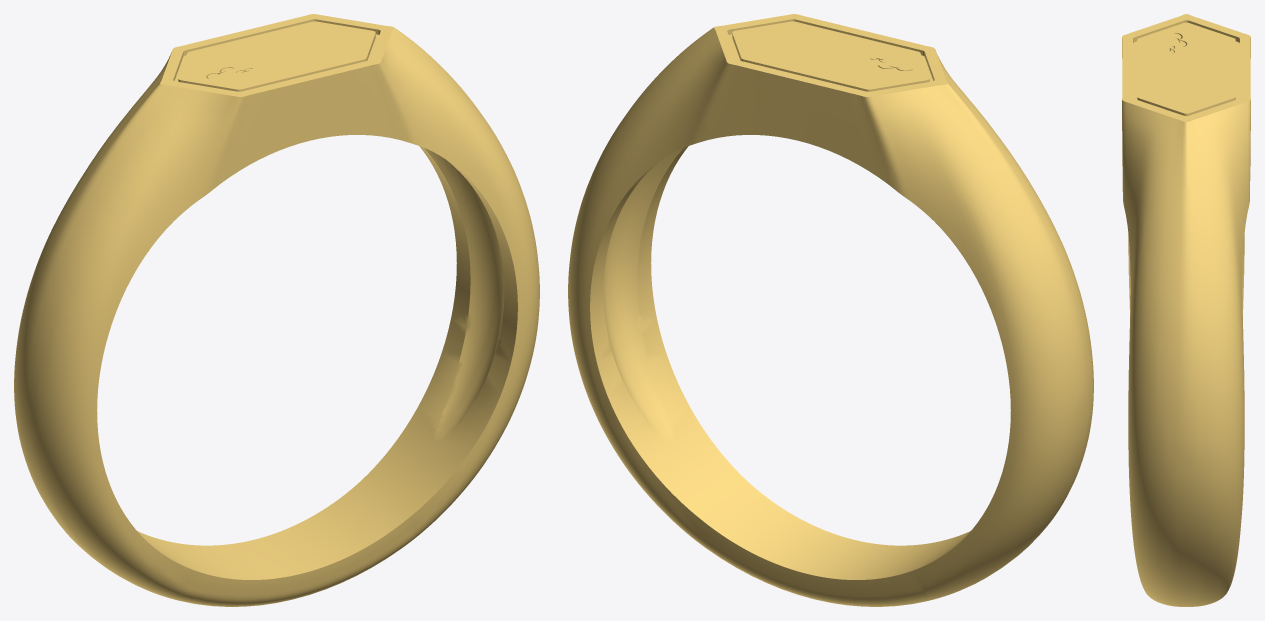
The model's file is LimpinYG_blender.glb.
3 renders of one model, left to right at view 1: azimuth 30°, elevation 25°; view 2: azimuth 150°, elevation 25°; view 3: azimuth 270°, elevation 25°, orthographic. The views are drawn at different scales.
Visible parts, largest first — view 1: Limpin YG for 3d model; view 2: Limpin YG for 3d model; view 3: Limpin YG for 3d model.
Boxes of the visible parts, <box> form: Limpin YG for 3d model: <box>14,14,539,606</box>; Limpin YG for 3d model: <box>568,14,1093,606</box>; Limpin YG for 3d model: <box>1122,14,1250,606</box>.
Bounding box in the file's own units: 26.04 × 26.44 × 6.04.
